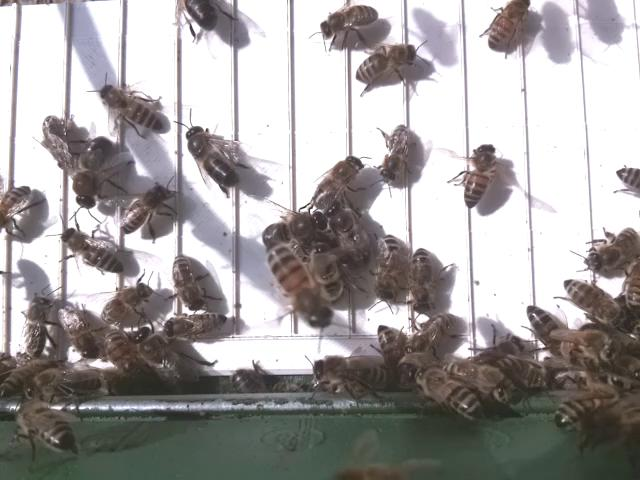Drone: (182, 121, 241, 192), (70, 133, 121, 210), (310, 154, 363, 213), (261, 210, 331, 246)
Worker: (266, 245, 328, 332), (98, 81, 169, 135), (56, 226, 128, 274), (117, 182, 170, 238), (559, 278, 623, 322), (56, 299, 101, 360), (584, 225, 639, 273), (21, 289, 57, 362), (377, 119, 415, 187), (354, 45, 419, 84), (315, 2, 379, 41), (483, 0, 529, 52), (403, 311, 457, 355), (98, 283, 153, 326), (461, 142, 495, 210), (524, 302, 564, 359), (169, 251, 205, 314), (163, 310, 233, 342), (373, 231, 403, 305), (41, 110, 74, 175), (0, 178, 35, 232), (408, 246, 434, 315)
